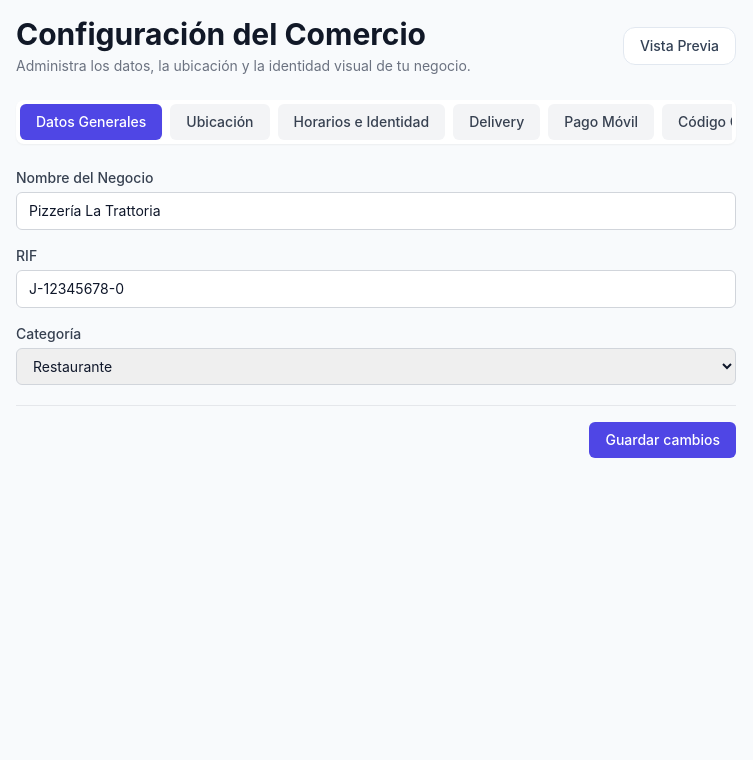
Scenario: MerchantSettingsPage › recarga sin romper con location como cadena POINT de PostGIS
Expected: the heading "Configuración del Comercio" is shown, 16,16 -> 471,52
Click the button "Ubicación" at (220, 122), box 170,104 -> 270,140
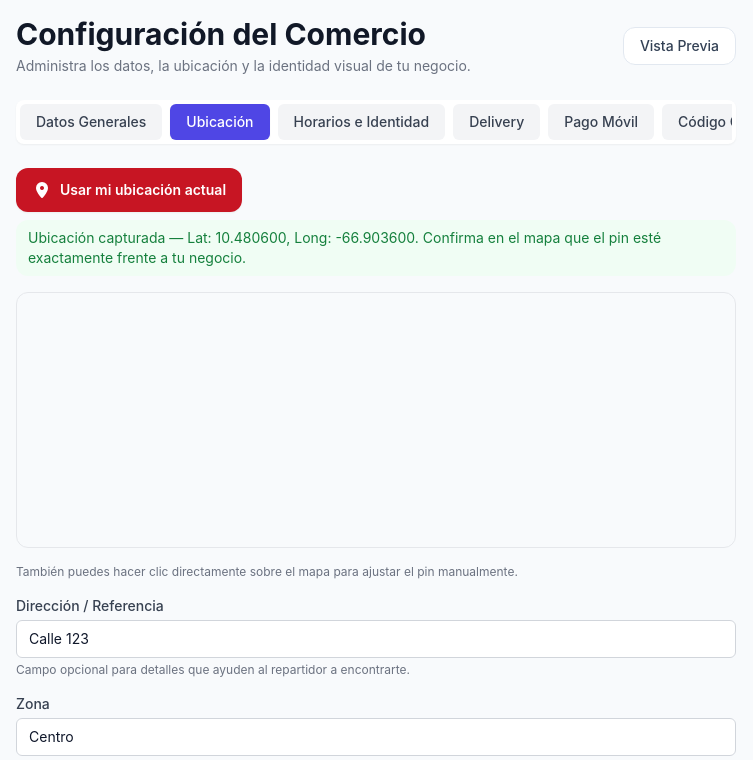
Expected: the element with test id "captured-coordinates" is shown, 16,220 -> 736,276
